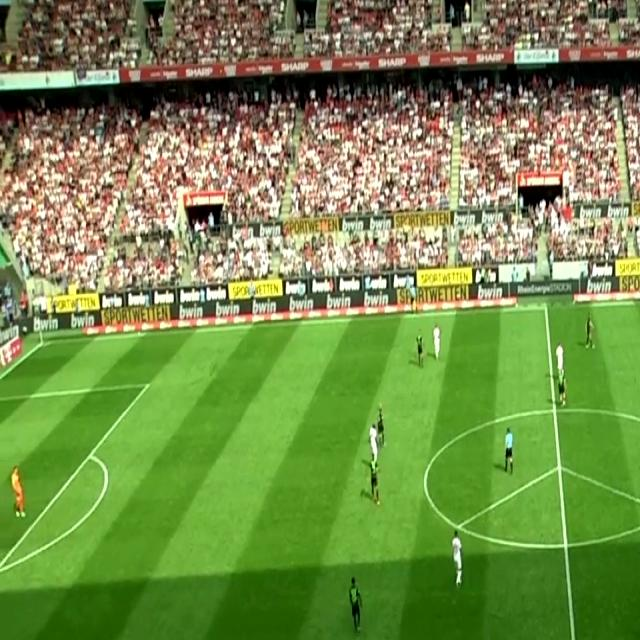goalkeeper: (7, 460, 29, 533)
referee: (499, 422, 517, 483)
soccer-player: (444, 522, 468, 595), (344, 570, 365, 640), (363, 449, 383, 518), (556, 362, 570, 418), (413, 320, 427, 375), (376, 398, 391, 449), (582, 308, 596, 362), (430, 320, 444, 364)
